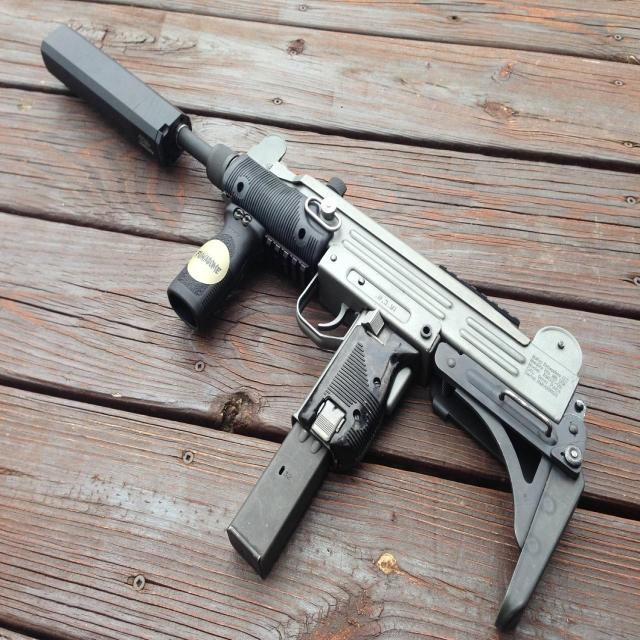SMG: (39, 27, 588, 636)
